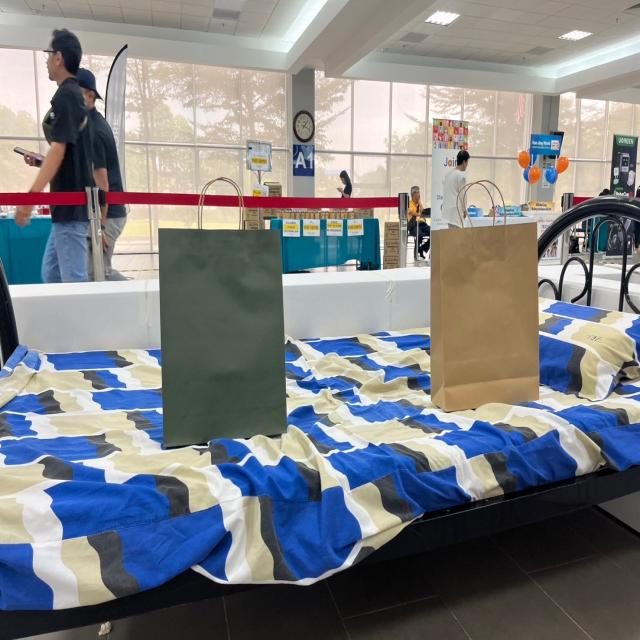bag: (158, 158, 286, 433), (432, 162, 540, 398)
